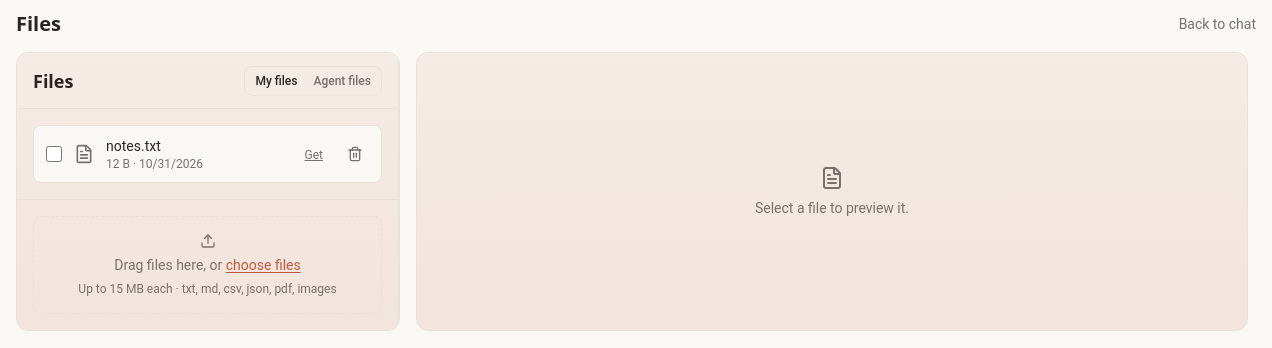
Scenario: AssetsView (issue #197) › loads and renders markdown when a file is selected
Click the button with test id "asset-preview-a1".
click(196, 154)  # box [106,136,286,172]
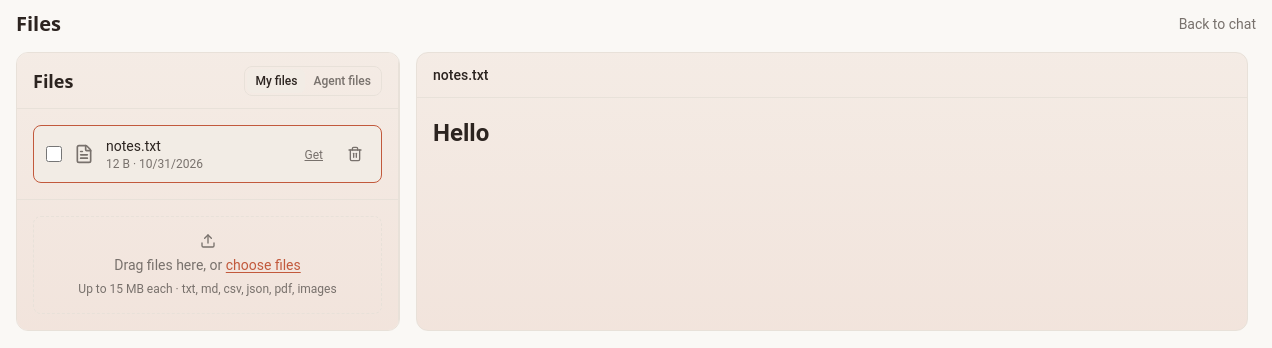
Now the heading "Hello" is shown, box [433,119,489,147]
